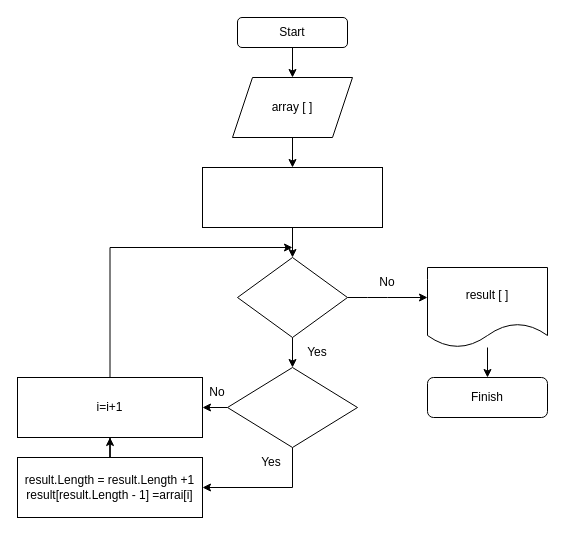
The diagram is 565 pixels wide and 535 high, and some of its shapes have lost their labels. Each missing label, with the centre of its shape:
"array[i].Length <= 3" belongs at pixel 292 407.
"i < array.Length" belongs at pixel 292 297.
"result [ ] = new string [0] i=0" belongs at pixel 292 197.
